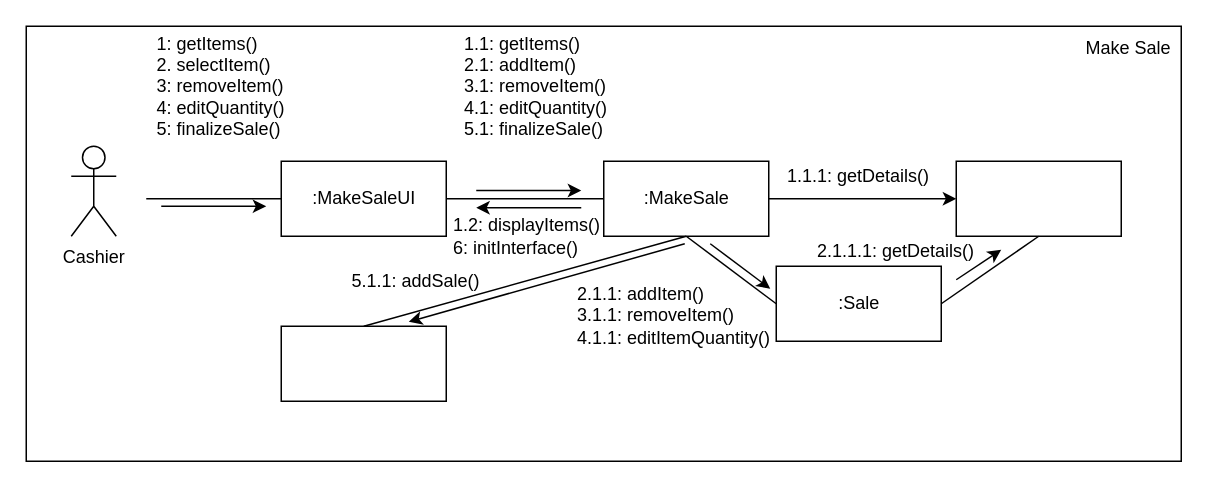
Image size: 1208x488. Some labels were removed from this diagram. Each missing label, with the centre of its shape:
":Cashier" goes at [363,363].
":Item" goes at [1038,198].
